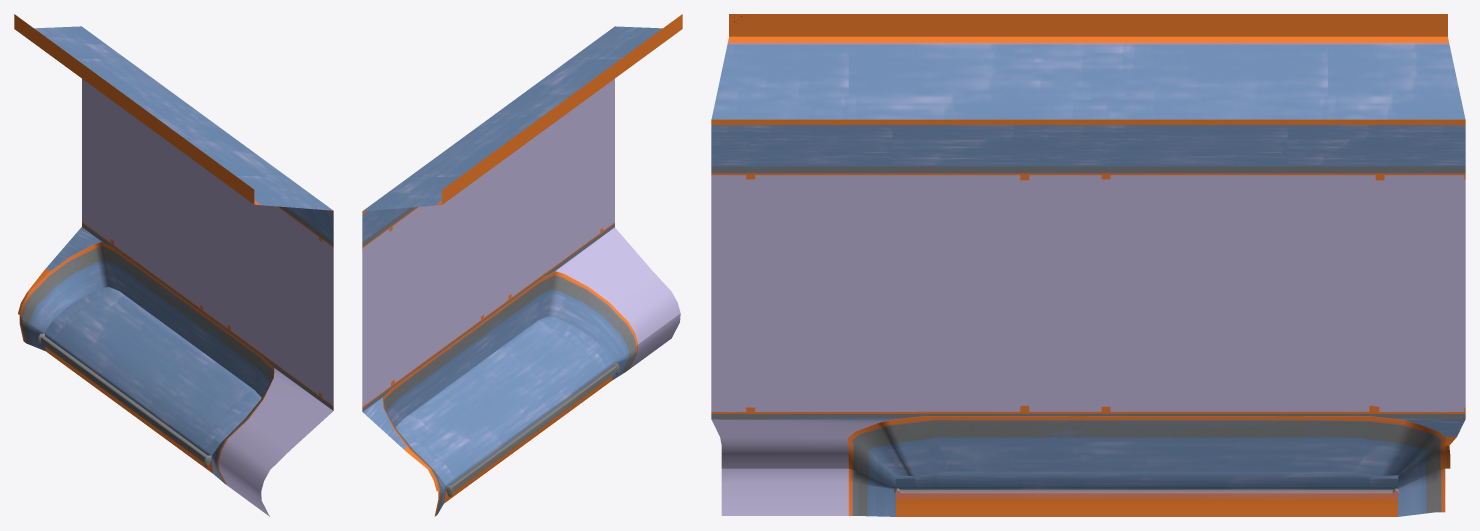
File: wall_R.fbx
3 views of the same model, side by side, from view 1: azimuth 30°, elevation 25°; view 2: azimuth 150°, elevation 25°; view 3: azimuth 270°, elevation 25° (orthographic). The views are drawn at different scales.
Parts seen in each view (by area): view 1: wall_R; view 2: wall_R; view 3: wall_R.
Boxes of the visible parts, bbox=[...] form: wall_R: bbox=[14, 14, 333, 516]; wall_R: bbox=[362, 14, 682, 516]; wall_R: bbox=[711, 14, 1465, 516].
Bounding box in the file's own units: 102 × 437 × 606.
